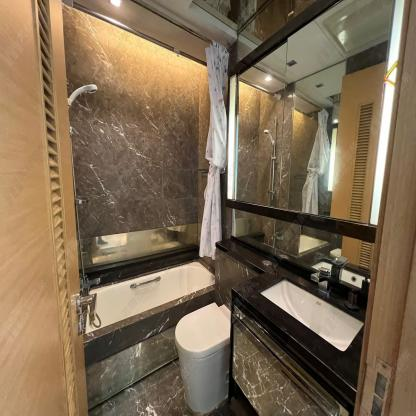Bathtub: (83, 256, 215, 413)
Faucet: (311, 263, 331, 298)
Toilet: (175, 302, 230, 413)
Toilet Sink: (232, 267, 366, 391)
